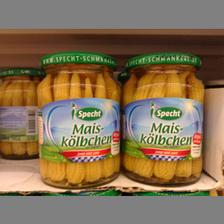Mais: (35, 51, 121, 189), (121, 52, 207, 184), (1, 68, 40, 160)
